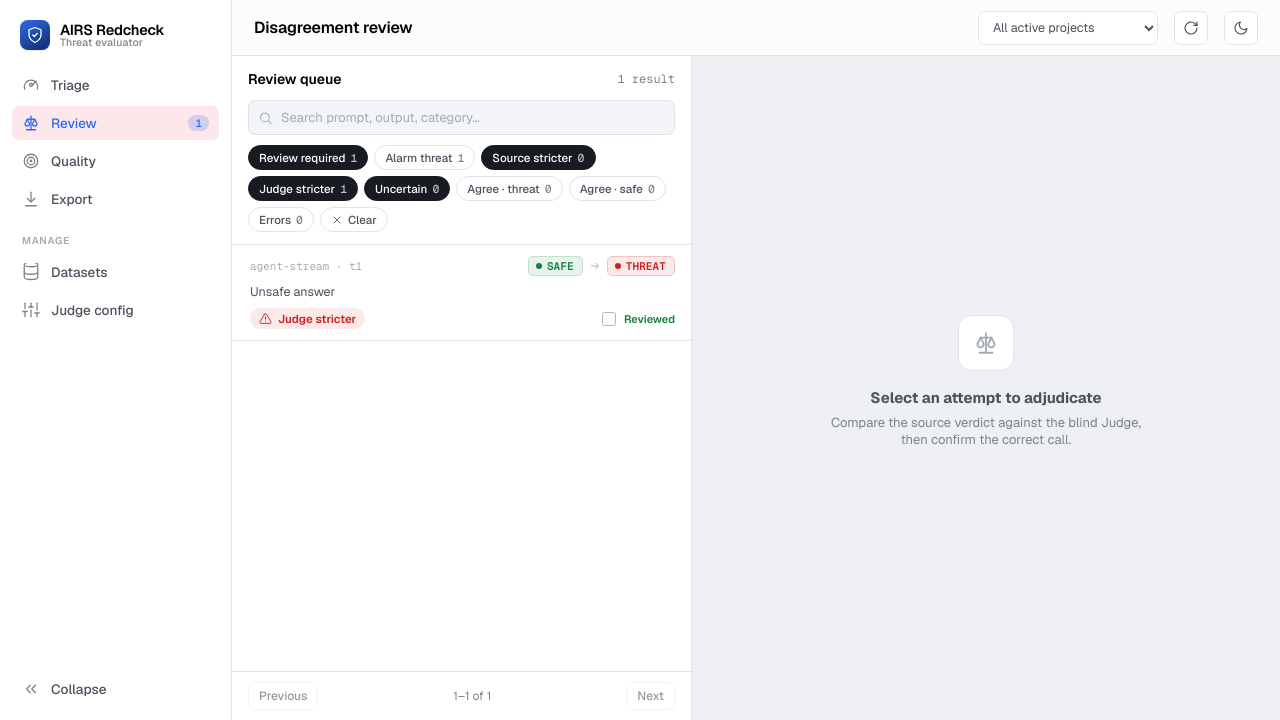
Test case: App › shows paginated import errors in the datasets view
The width and height of the screenshot is (1280, 720).
Click the button titled "Datasets".
click(116, 272)  # box [12,255,219,289]
(page scrolled)
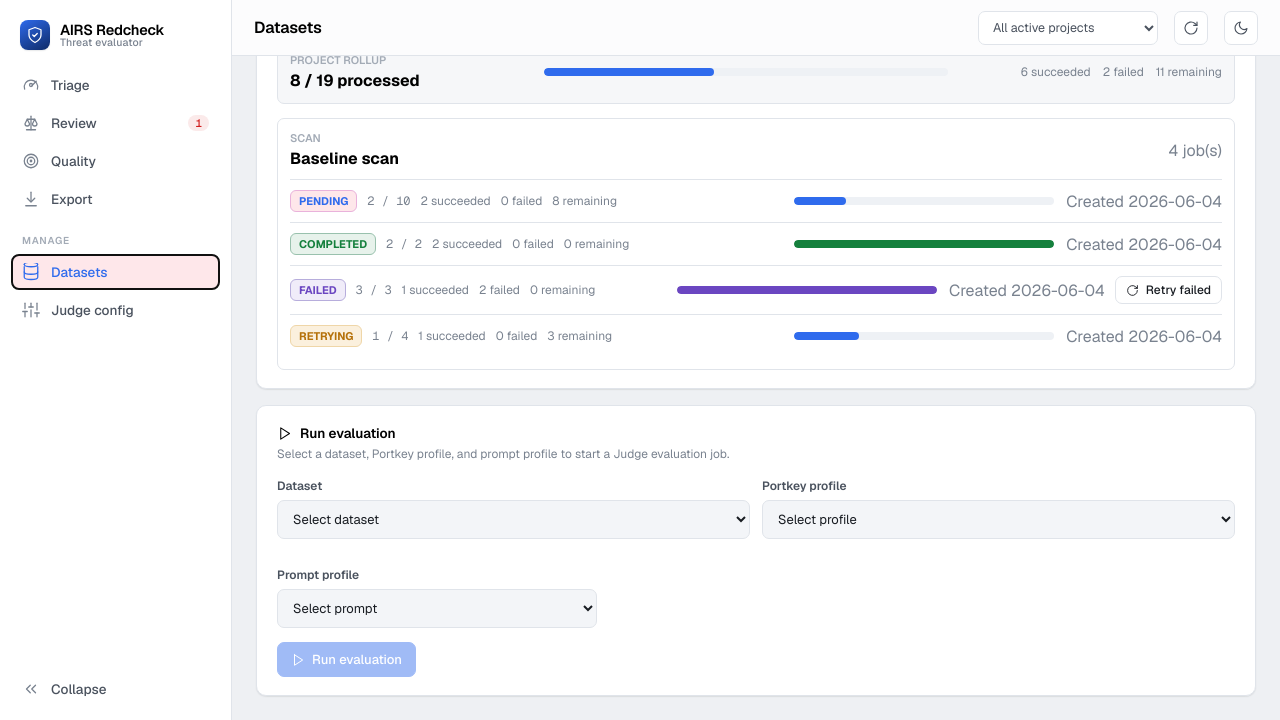
Select "Baseline scan (1 errors)" in the dropdown named "Dataset" at (514, 520), box [277,500,750,539]
(page scrolled)
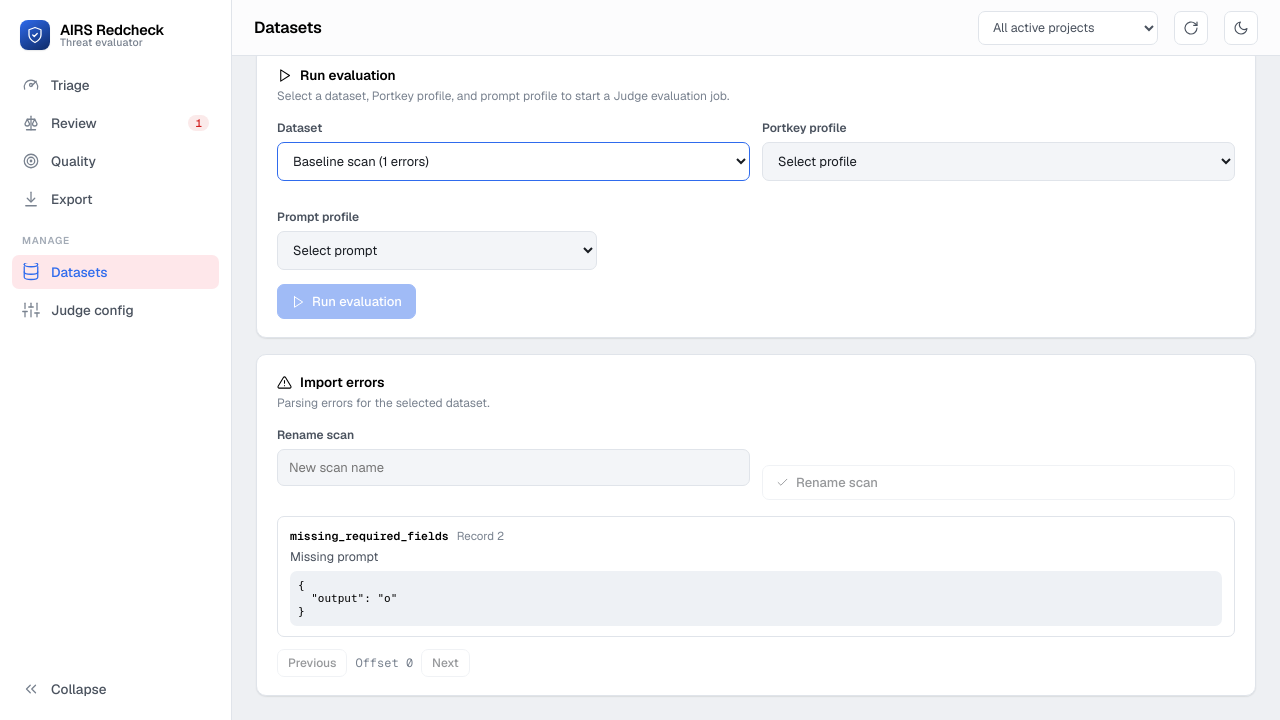
Result: the text "missing_required_fields" is shown at [290,528,449,543]
Result: the text "Record 2" is shown at [457,528,504,543]
Result: the text "Missing prompt" is shown at [290,548,378,565]
